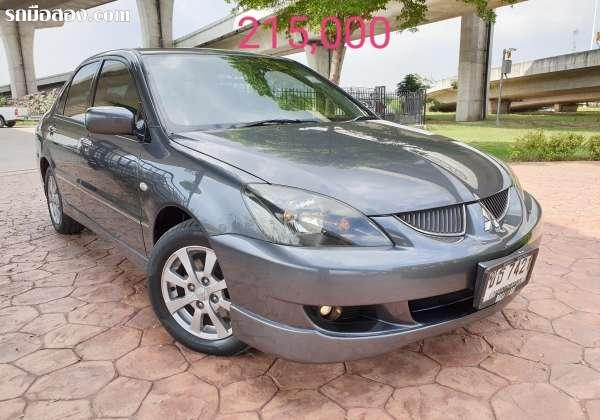sedan: (33, 48, 543, 364)
